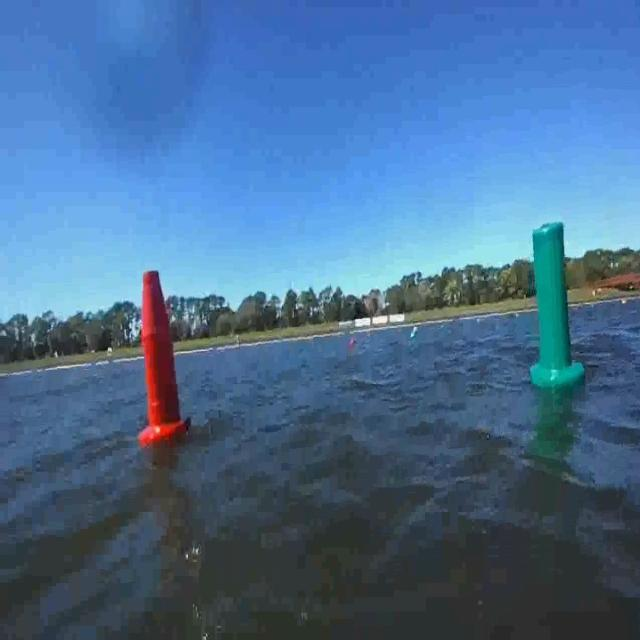green-column-buoy: (529, 224, 583, 390)
red-column-buoy: (138, 268, 187, 444)
